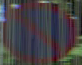No Stopping: (8, 2, 73, 60)
